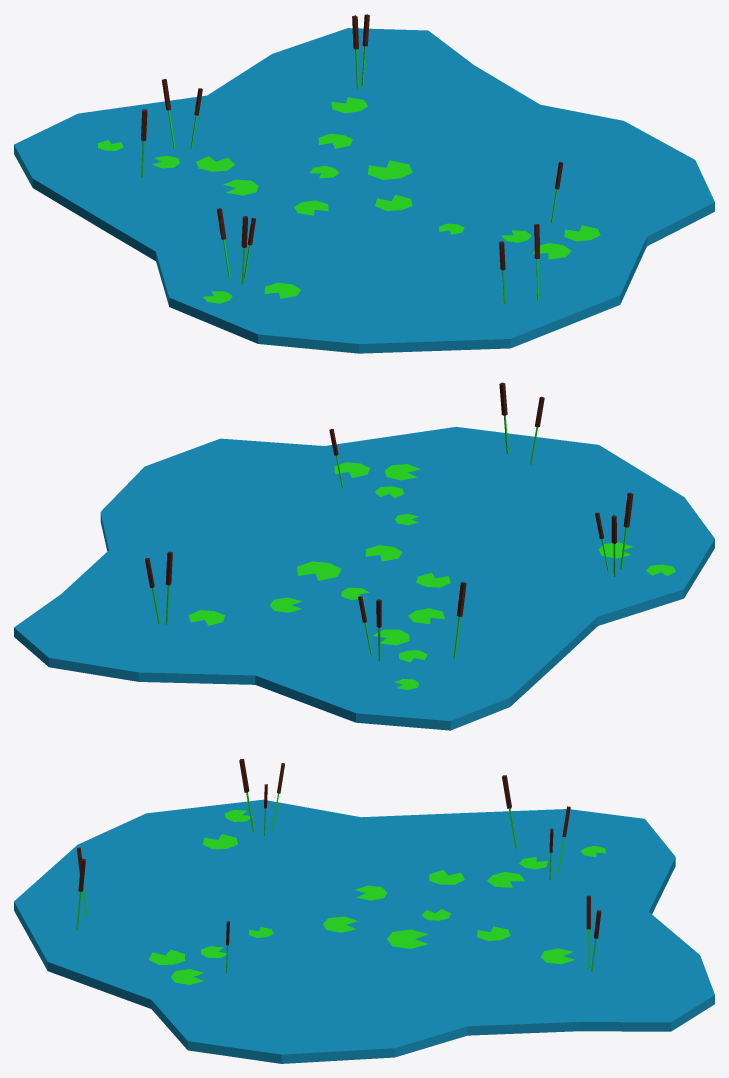
The model's file is Lake.FBX.
3 renders of one model, top to bottom at view 1: azimuth 30°, elevation 25°; view 2: azimuth 150°, elevation 25°; view 3: azimuth 270°, elevation 25°, orthographic. The views are drawn at different scales.
Visible parts, largest first — view 1: Box042; view 2: Box042; view 3: Box042.
Boxes of the visible parts, x1=… form: Box042: x1=14, y1=14, x2=714, y2=353; Box042: x1=14, y1=382, x2=714, y2=730; Box042: x1=14, y1=759, x2=714, y2=1063.
Bounding box in the file's own units: 58.66 × 8.64 × 68.16.
